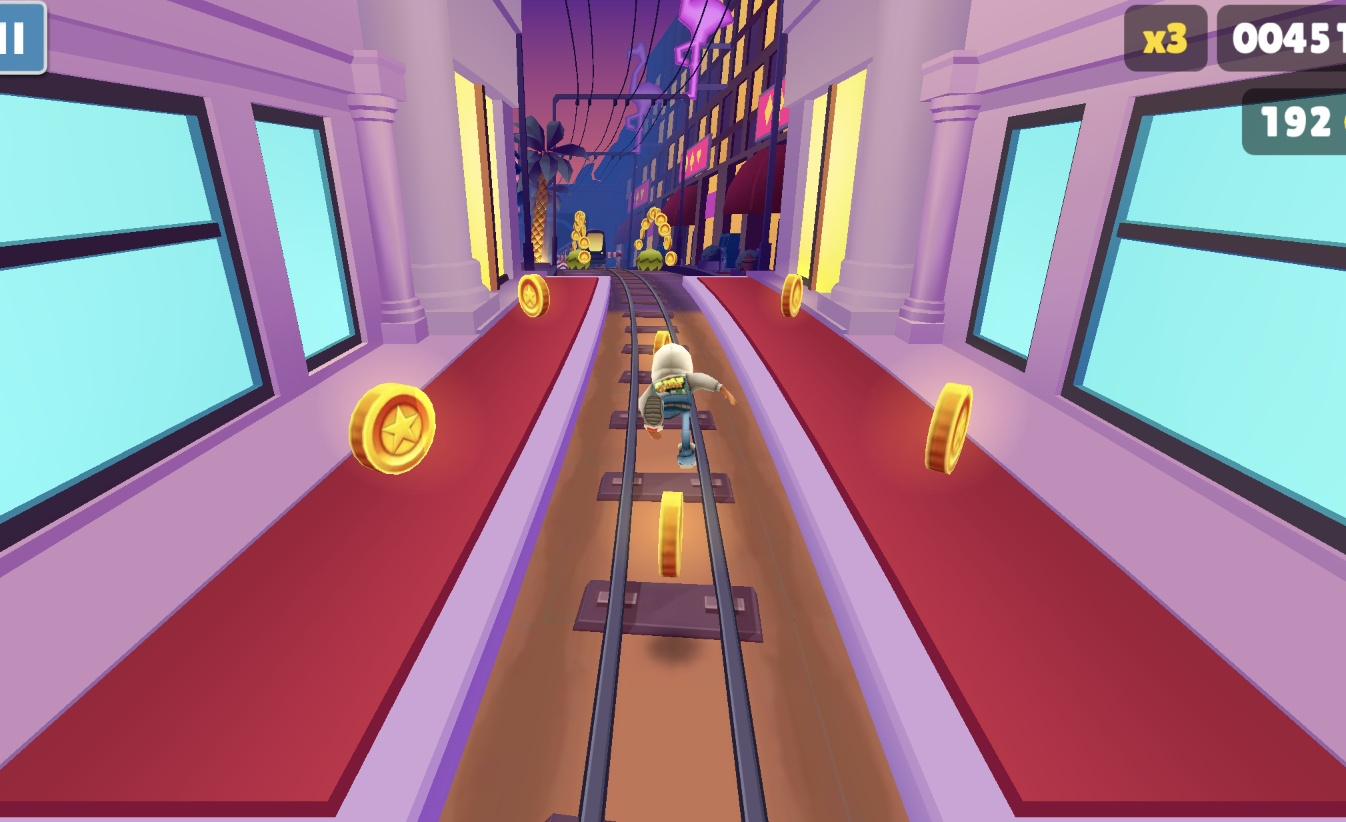bush: (557, 249, 594, 271), (637, 250, 664, 273)
train: (582, 228, 609, 272)
